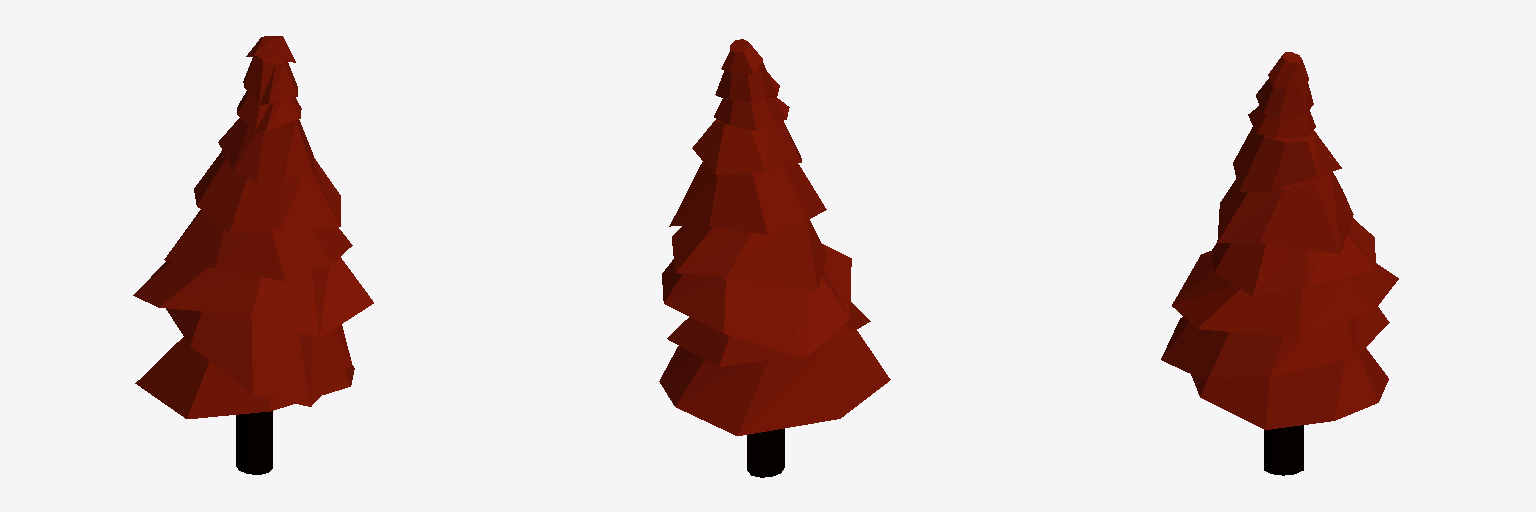
The model's file is a_tree.obj.
3 views of the same model, side by side, from view 1: azimuth 30°, elevation 25°; view 2: azimuth 150°, elevation 25°; view 3: azimuth 270°, elevation 25° (orthographic).
Parts seen in each view (by area): view 1: group10 pasted__pasted__pCylinder3, group10 pasted__pasted__pCylinder2, group10 pasted__pasted__pasted__pCylinder2, group10 pasted__pasted__pCylinder4, group10 pasted__pCylinder2, group10 pasted__pasted__pasted__pasted__pCylinder2, pCylinder1 group10, group10 pasted__pasted__pasted__pasted__pasted__pCylinder2, group10 pasted__pasted__pasted__pasted__pCylinder3, group10 pasted__pasted__pasted__pasted__pasted__pasted__pCylinde; view 2: group10 pasted__pCylinder2, group10 pasted__pasted__pCylinder3, group10 pasted__pasted__pCylinder4, group10 pasted__pasted__pasted__pCylinder2, group10 pasted__pasted__pasted__pasted__pCylinder2, group10 pasted__pasted__pCylinder2, group10 pasted__pasted__pasted__pasted__pCylinder3, pCylinder1 group10, group10 pasted__pasted__pasted__pasted__pasted__pCylinder2, group10 pasted__pasted__pasted__pasted__pasted__pasted__pCylinde; view 3: group10 pasted__pasted__pCylinder3, group10 pasted__pasted__pCylinder2, group10 pasted__pCylinder2, group10 pasted__pasted__pasted__pCylinder2, group10 pasted__pasted__pCylinder4, group10 pasted__pasted__pasted__pasted__pCylinder2, pCylinder1 group10, group10 pasted__pasted__pasted__pasted__pasted__pCylinder2, group10 pasted__pasted__pasted__pasted__pCylinder3, group10 pasted__pasted__pasted__pasted__pasted__pasted__pCylinde.
Part boxes in pixels (bbox=[...]): group10 pasted__pasted__pCylinder3: bbox=[133, 257, 373, 338]; group10 pasted__pasted__pCylinder2: bbox=[166, 308, 351, 406]; group10 pasted__pasted__pasted__pCylinder2: bbox=[194, 150, 340, 232]; group10 pasted__pasted__pCylinder4: bbox=[164, 210, 352, 280]; group10 pasted__pCylinder2: bbox=[135, 337, 354, 418]; group10 pasted__pasted__pasted__pasted__pCylinder2: bbox=[218, 118, 314, 183]; pCylinder1 group10: bbox=[236, 411, 272, 474]; group10 pasted__pasted__pasted__pasted__pasted__pCylinder2: bbox=[243, 56, 297, 105]; group10 pasted__pasted__pasted__pasted__pCylinder3: bbox=[237, 91, 301, 131]; group10 pasted__pasted__pasted__pasted__pasted__pasted__pCylinde: bbox=[246, 36, 295, 62]; group10 pasted__pCylinder2: bbox=[659, 330, 890, 435]; group10 pasted__pasted__pCylinder3: bbox=[662, 244, 851, 358]; group10 pasted__pasted__pCylinder4: bbox=[672, 219, 827, 290]; group10 pasted__pasted__pasted__pCylinder2: bbox=[669, 162, 826, 234]; group10 pasted__pasted__pasted__pasted__pCylinder2: bbox=[692, 119, 801, 174]; group10 pasted__pasted__pCylinder2: bbox=[667, 301, 870, 366]; group10 pasted__pasted__pasted__pasted__pCylinder3: bbox=[714, 97, 789, 130]; pCylinder1 group10: bbox=[747, 428, 784, 477]; group10 pasted__pasted__pasted__pasted__pasted__pCylinder2: bbox=[715, 61, 779, 101]; group10 pasted__pasted__pasted__pasted__pasted__pasted__pCylinde: bbox=[721, 39, 762, 74]; group10 pasted__pasted__pCylinder3: bbox=[1172, 251, 1398, 337]; group10 pasted__pasted__pCylinder2: bbox=[1161, 307, 1389, 381]; group10 pasted__pCylinder2: bbox=[1191, 348, 1388, 429]; group10 pasted__pasted__pasted__pCylinder2: bbox=[1217, 172, 1353, 253]; group10 pasted__pasted__pCylinder4: bbox=[1211, 218, 1376, 296]; group10 pasted__pasted__pasted__pasted__pCylinder2: bbox=[1233, 127, 1341, 191]; pCylinder1 group10: bbox=[1264, 425, 1303, 475]; group10 pasted__pasted__pasted__pasted__pasted__pCylinder2: bbox=[1256, 79, 1313, 117]; group10 pasted__pasted__pasted__pasted__pCylinder3: bbox=[1248, 106, 1315, 137]; group10 pasted__pasted__pasted__pasted__pasted__pasted__pCylinde: bbox=[1268, 52, 1308, 88].
Size of the model in its own units: 3.26 by 6.85 by 3.49.